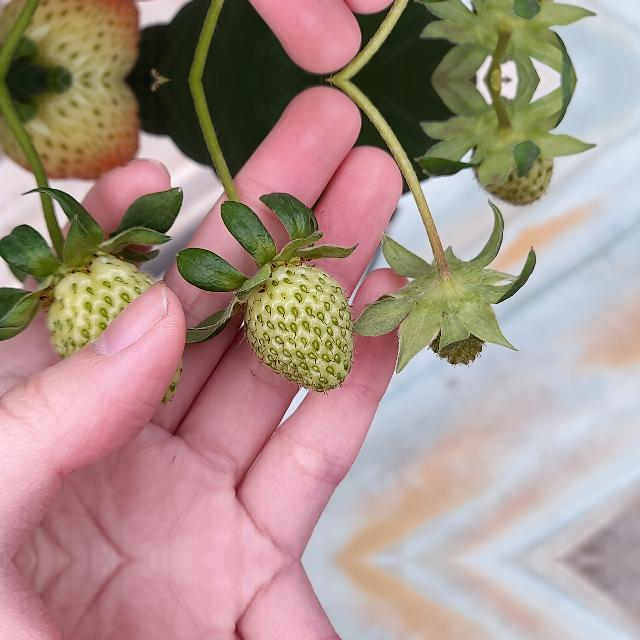Health_25: (52, 255, 182, 411), (244, 262, 352, 392), (478, 118, 554, 210), (478, 0, 553, 41)
